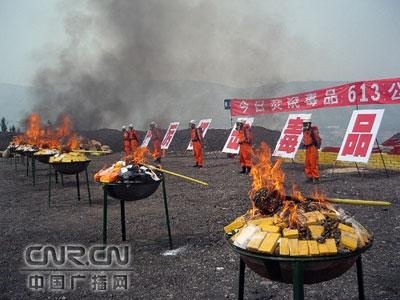fire: (231, 135, 308, 235), (93, 133, 161, 184), (9, 112, 83, 155)
